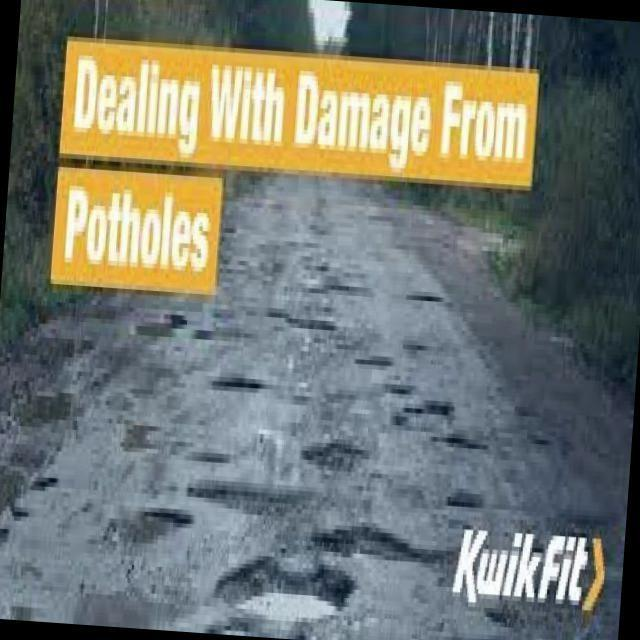Pothole: (214, 558, 330, 610), (322, 526, 433, 562)
